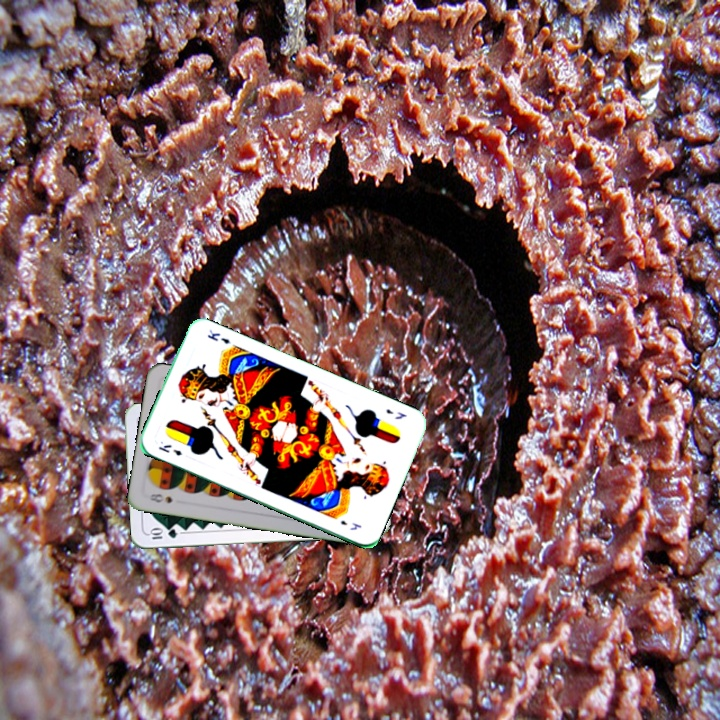EK: (154, 440, 184, 458), (382, 405, 409, 422)
G10: (146, 525, 180, 542)
S8: (145, 489, 175, 506)
